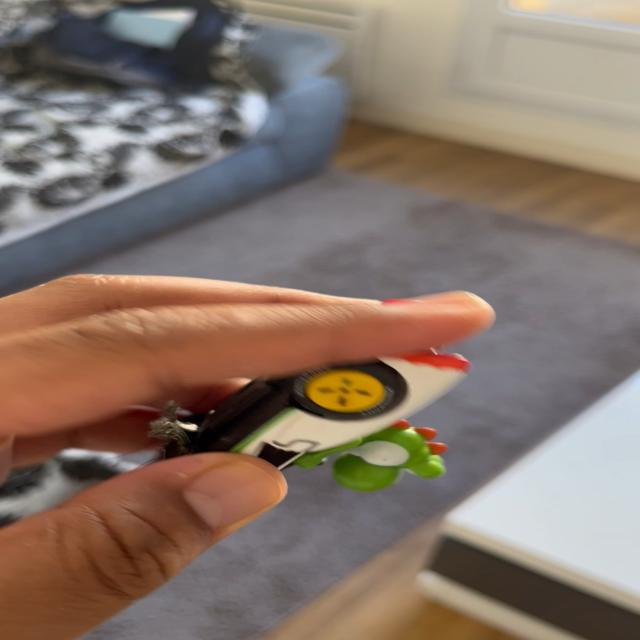yoshi: (118, 335, 471, 525)
